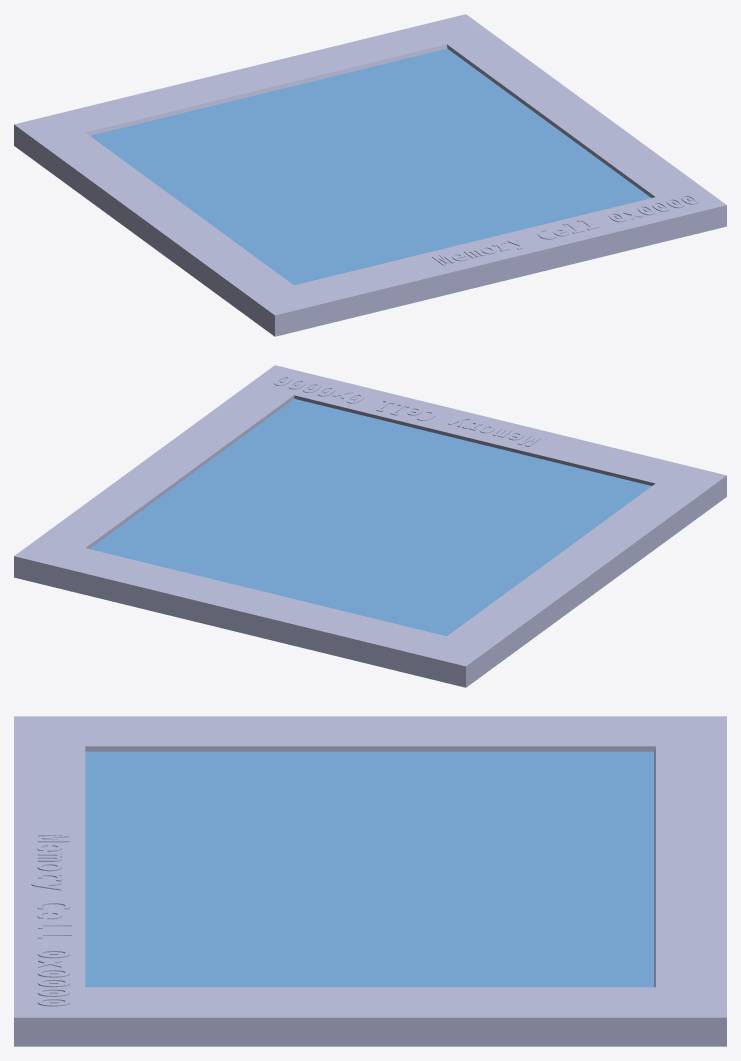
The model's file is Tile.fbx.
3 views of the same model, one above another, from view 1: azimuth 30°, elevation 25°; view 2: azimuth 150°, elevation 25°; view 3: azimuth 270°, elevation 25° (orthographic). The views are drawn at different scales.
Visible parts, largest first — view 1: Tile; view 2: Tile; view 3: Tile.
Part boxes in pixels (box(x1,y1,x2,y2)): Tile: box(14, 14, 726, 336); Tile: box(14, 365, 726, 687); Tile: box(14, 716, 726, 1046).
Bounding box in the file's own units: 1000 × 46.82 × 1000.
